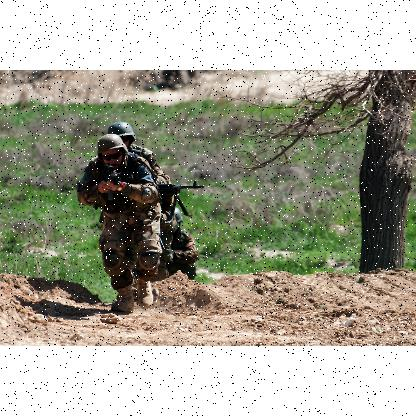gun: (128, 171, 206, 223)
